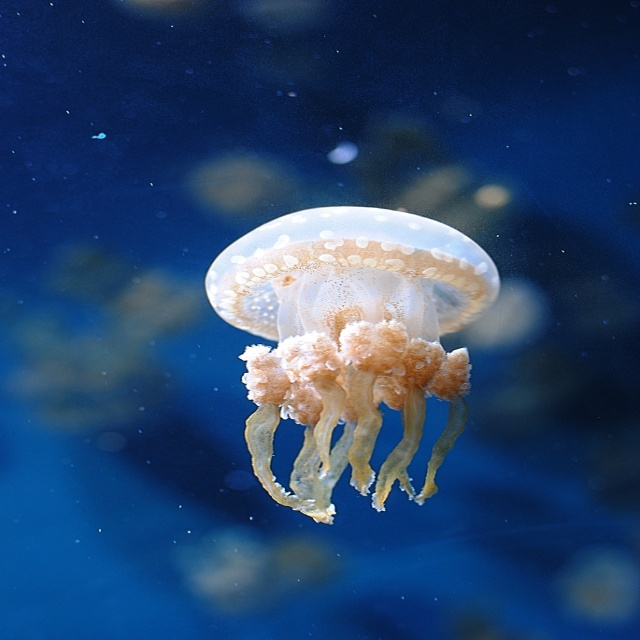Jellyfish: (205, 207, 502, 526)
